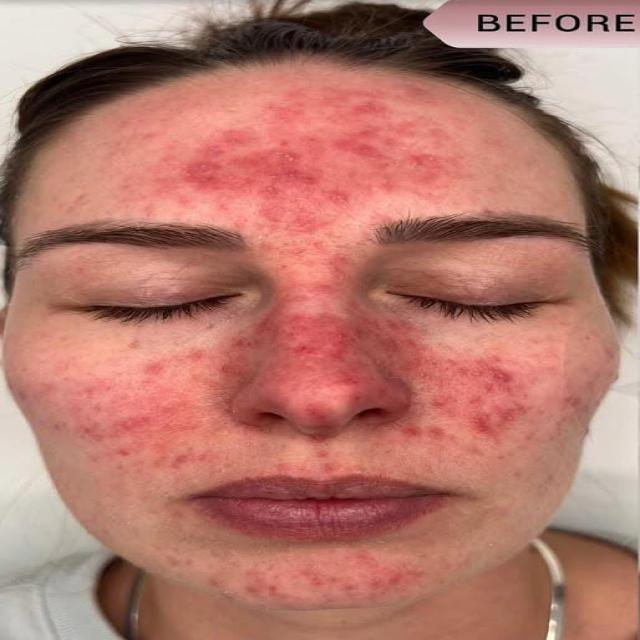Rosacea: (66, 325, 549, 466), (170, 134, 468, 210)
